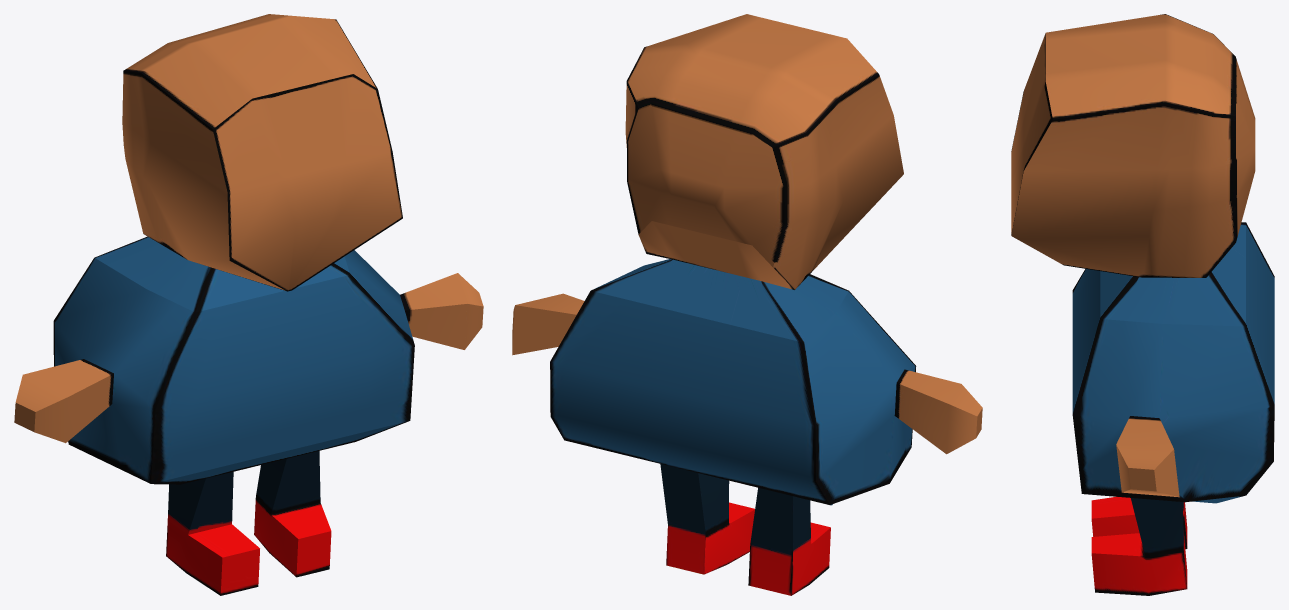
File: Player_rw.fbx
3 views of the same model, side by side, from view 1: azimuth 30°, elevation 25°; view 2: azimuth 150°, elevation 25°; view 3: azimuth 270°, elevation 25° (orthographic).
Visible parts, largest first — view 1: Player; view 2: Player; view 3: Player.
Boxes of the visible parts, left/top/right/bottom form: Player: left=14, top=14, right=483, bottom=595; Player: left=512, top=14, right=982, bottom=595; Player: left=1011, top=14, right=1274, bottom=595.
Size of the model in its own units: 74.92 by 81.16 by 36.96.
Materials: 1 (1 with a texture image).
